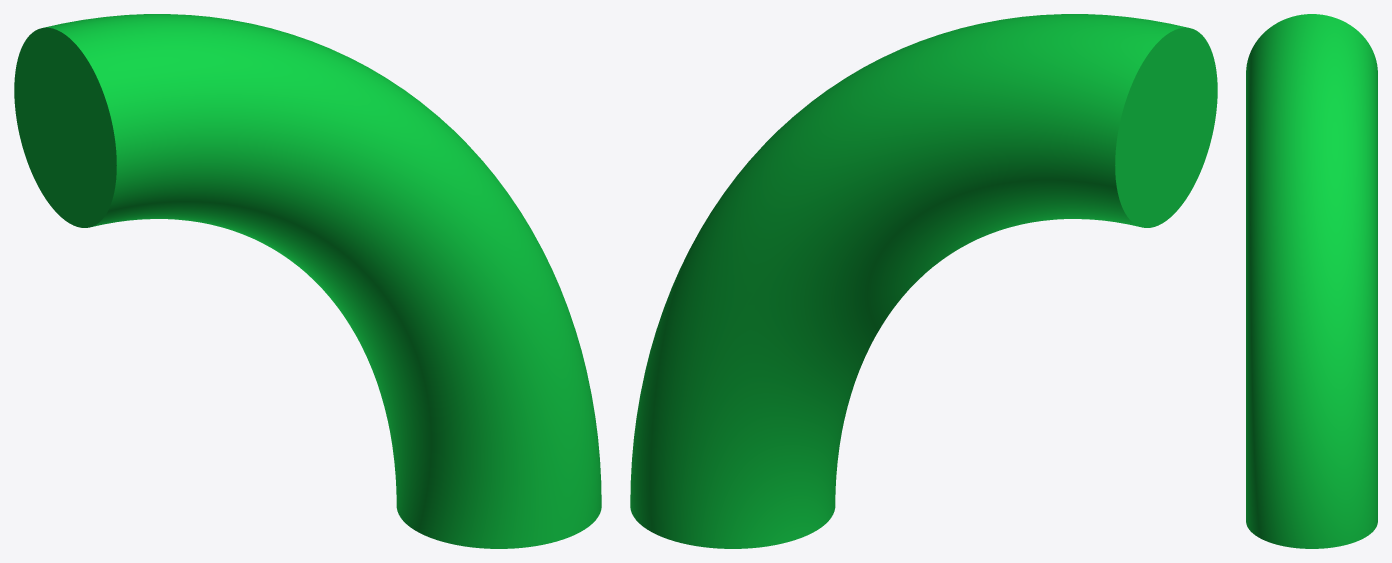
The model's file is pinballWellCurvado.fbx.
3 renders of one model, left to right at view 1: azimuth 30°, elevation 25°; view 2: azimuth 150°, elevation 25°; view 3: azimuth 270°, elevation 25°, orthographic. The views are drawn at different scales.
Parts seen in each view (by area): view 1: root; view 2: root; view 3: root.
Part boxes in pixels (x1=…): root: x1=14, y1=14, x2=601, y2=548; root: x1=630, y1=14, x2=1217, y2=548; root: x1=1246, y1=14, x2=1377, y2=548.
Bounding box in the file's own units: 0.1519 × 0.1602 × 0.0517.
